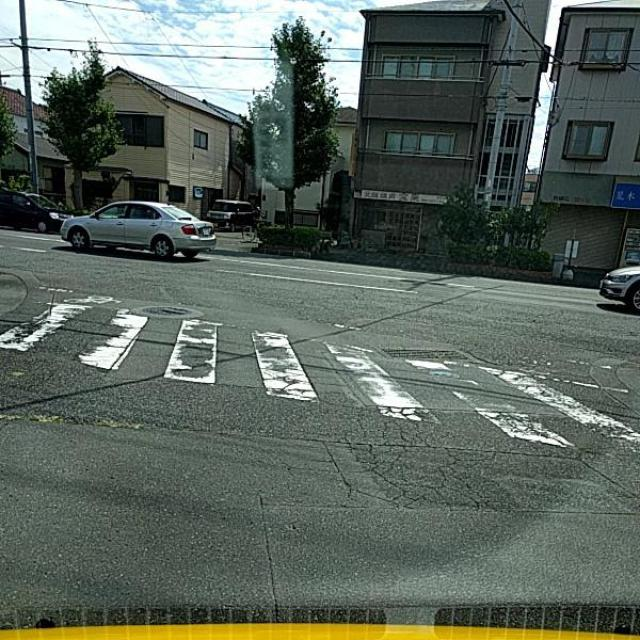Crack: (0, 262, 635, 518)
